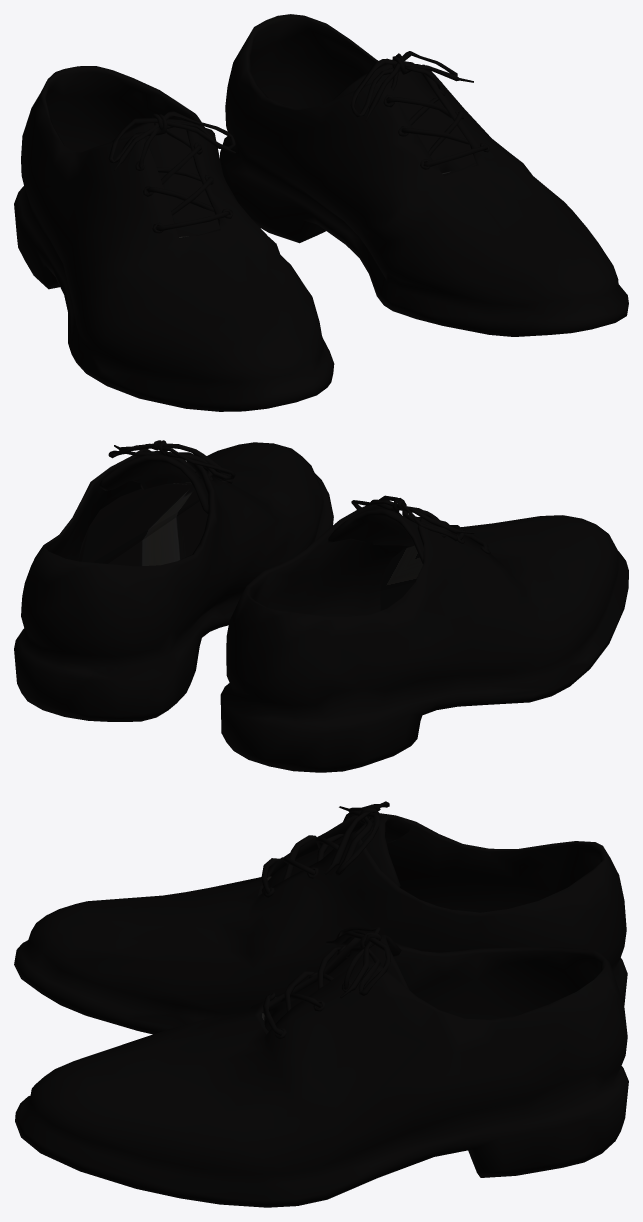
The model's file is Shoes 2.fbx.
3 renders of one model, top to bottom at view 1: azimuth 30°, elevation 25°; view 2: azimuth 150°, elevation 25°; view 3: azimuth 270°, elevation 25°, orthographic. The views are drawn at different scales.
Parts seen in each view (by area): view 1: shoes 2; view 2: shoes 2; view 3: shoes 2.
Part boxes in pixels (<box>): shoes 2: <box>14,14,628,411</box>; shoes 2: <box>14,440,628,772</box>; shoes 2: <box>14,801,628,1207</box>.
Size of the model in its own units: 29.77 by 11.44 by 29.63.
Materials: 1 (1 with a texture image).
